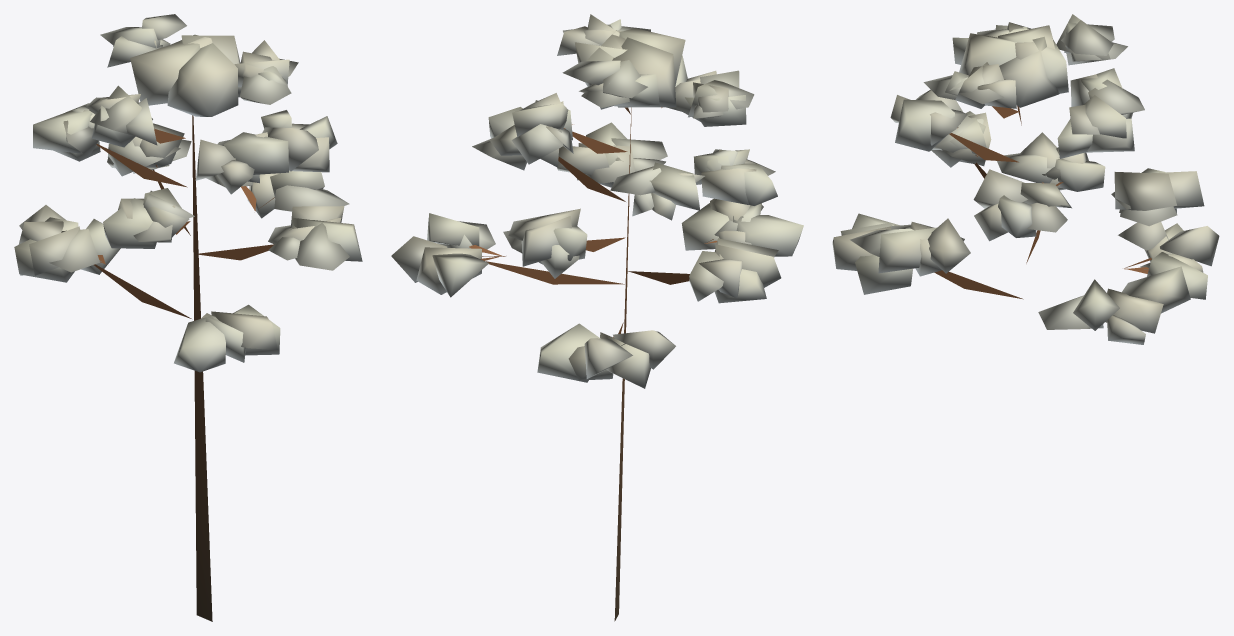
The picture shows the model from 3 angles, left to right: view 1: azimuth 30°, elevation 25°; view 2: azimuth 150°, elevation 25°; view 3: azimuth 270°, elevation 25°; orthographic projection.
Visible parts, largest first — view 1: crown, trunk; view 2: crown, trunk; view 3: crown, trunk.
Part boxes in pixels (x1,y1,x2,y2): crown: (14, 14, 362, 372); trunk: (94, 115, 274, 621); crown: (391, 14, 803, 388); trunk: (469, 107, 717, 621); crown: (832, 14, 1219, 344); trunk: (934, 106, 1151, 299).
Size of the model in its own units: 10.22 by 17.29 by 10.37.
